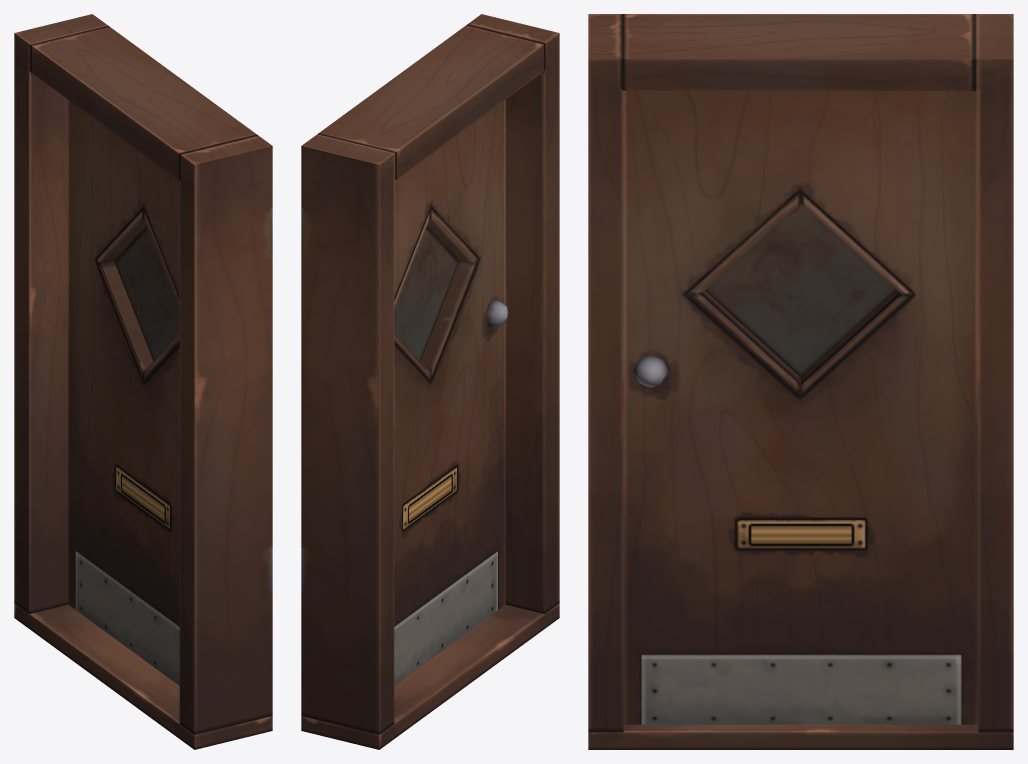
Rendered from door15.FBX.
3 views of the same model, side by side, from view 1: azimuth 30°, elevation 25°; view 2: azimuth 150°, elevation 25°; view 3: azimuth 270°, elevation 25° (orthographic). The views are drawn at different scales.
Visible parts, largest first — view 1: door15_frame, door15; view 2: door15_frame, door15; view 3: door15, door15_frame.
Part boxes in pixels (x1,y1,x2,y2): door15_frame: (14, 14, 272, 749); door15: (68, 100, 179, 685); door15_frame: (301, 14, 559, 749); door15: (394, 100, 508, 685); door15: (623, 91, 978, 724); door15_frame: (588, 14, 1013, 749).
Bounding box in the file's own units: 30 × 215 × 120.
